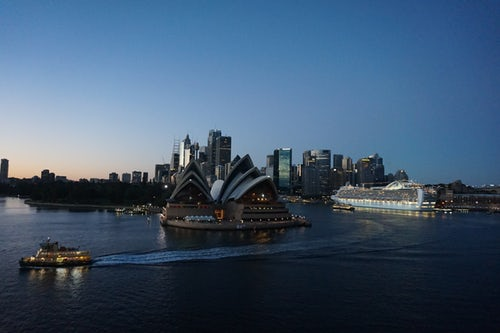opera house: (136, 125, 301, 231)
